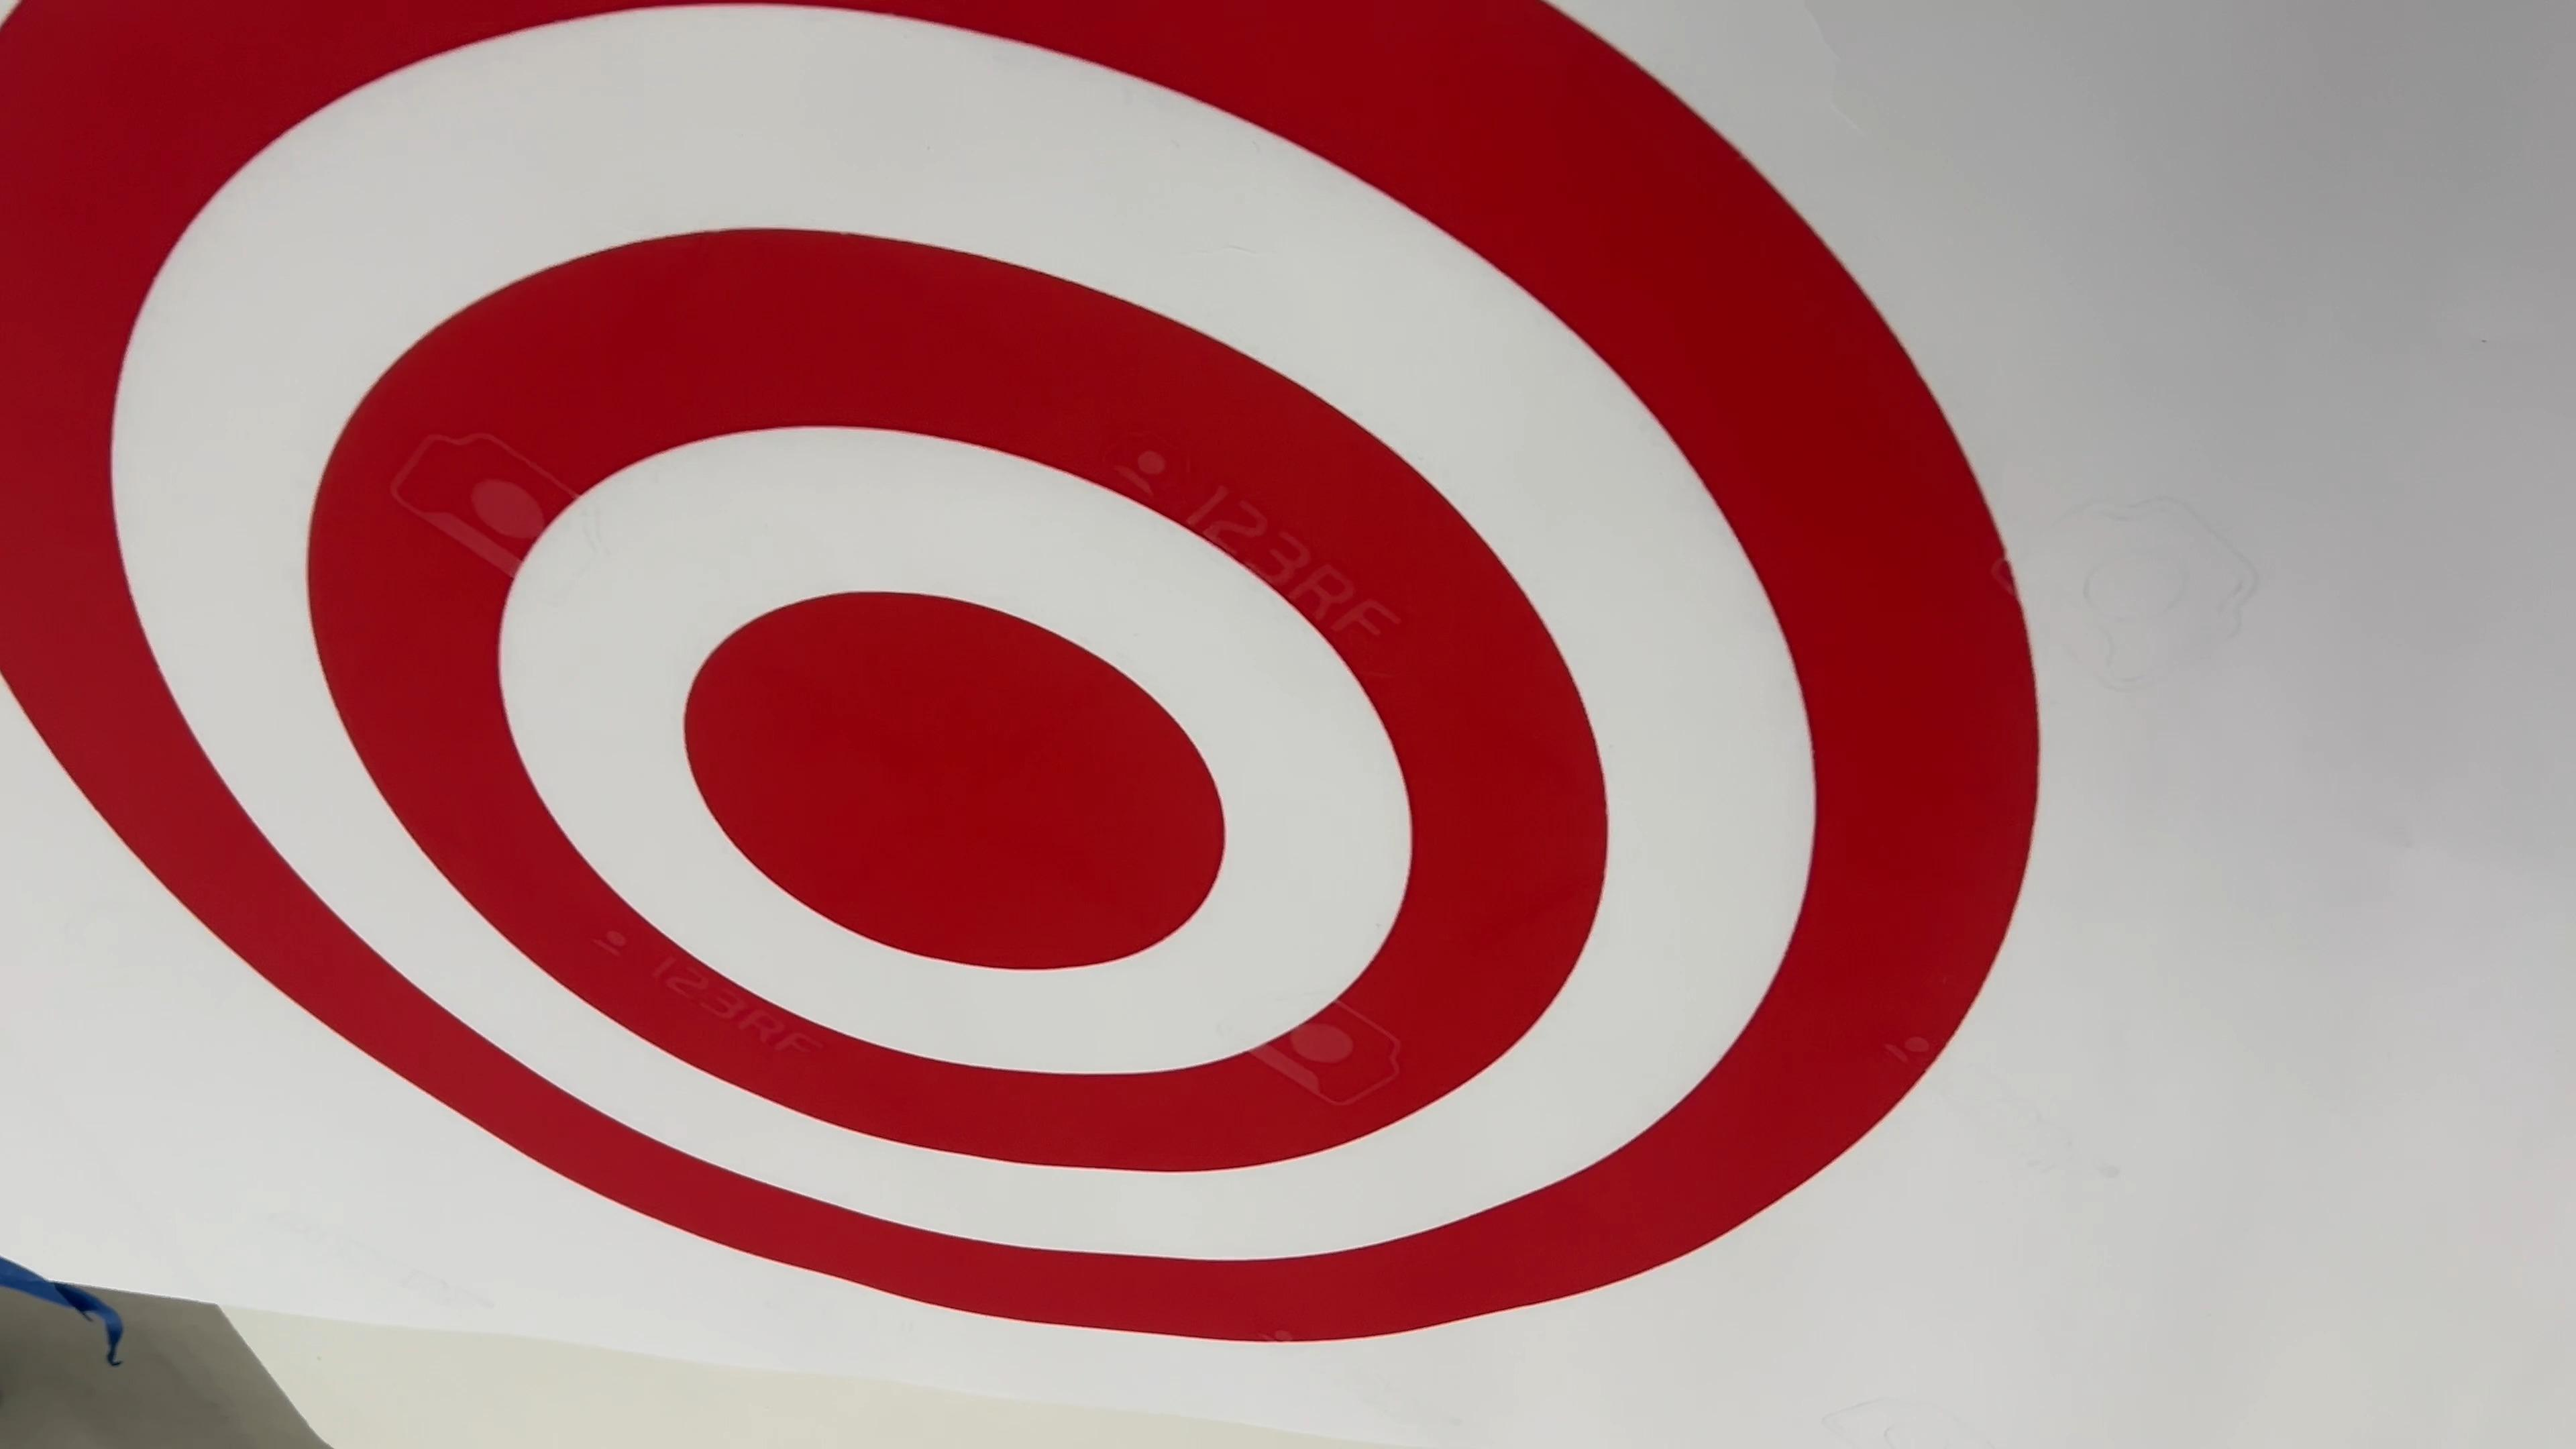target_red: (0, 0, 2070, 1410)
